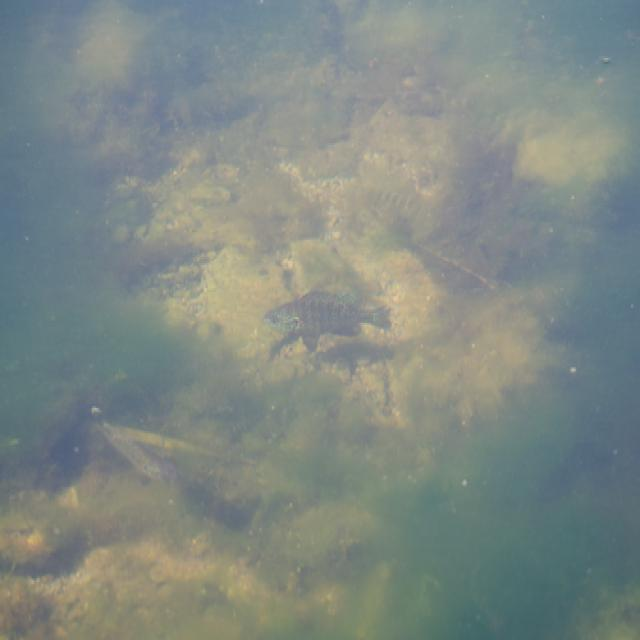Gunes Levregi: (261, 283, 395, 355)
